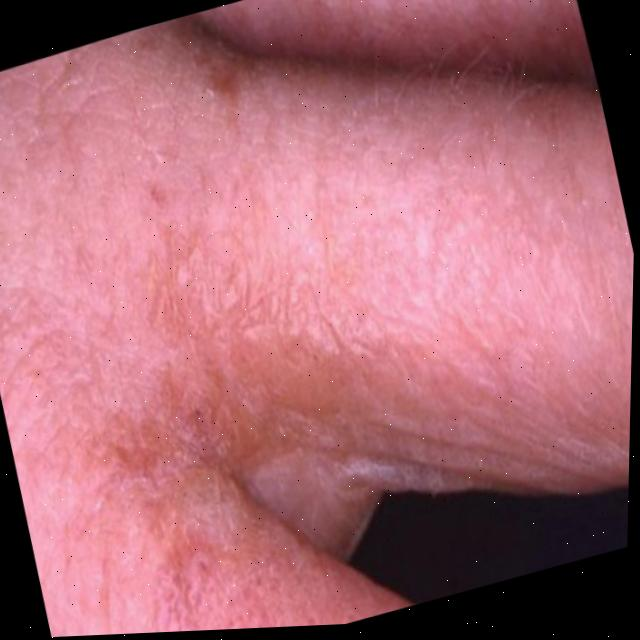Eczema: (37, 215, 453, 622)
